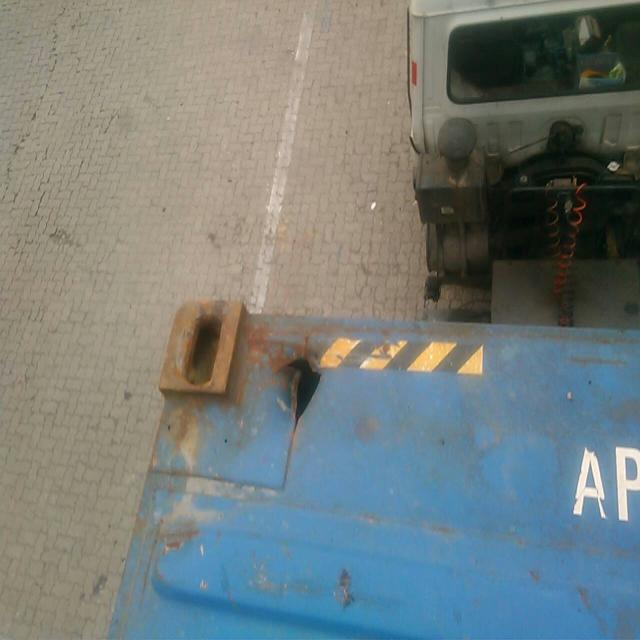hole: (266, 342, 331, 439)
